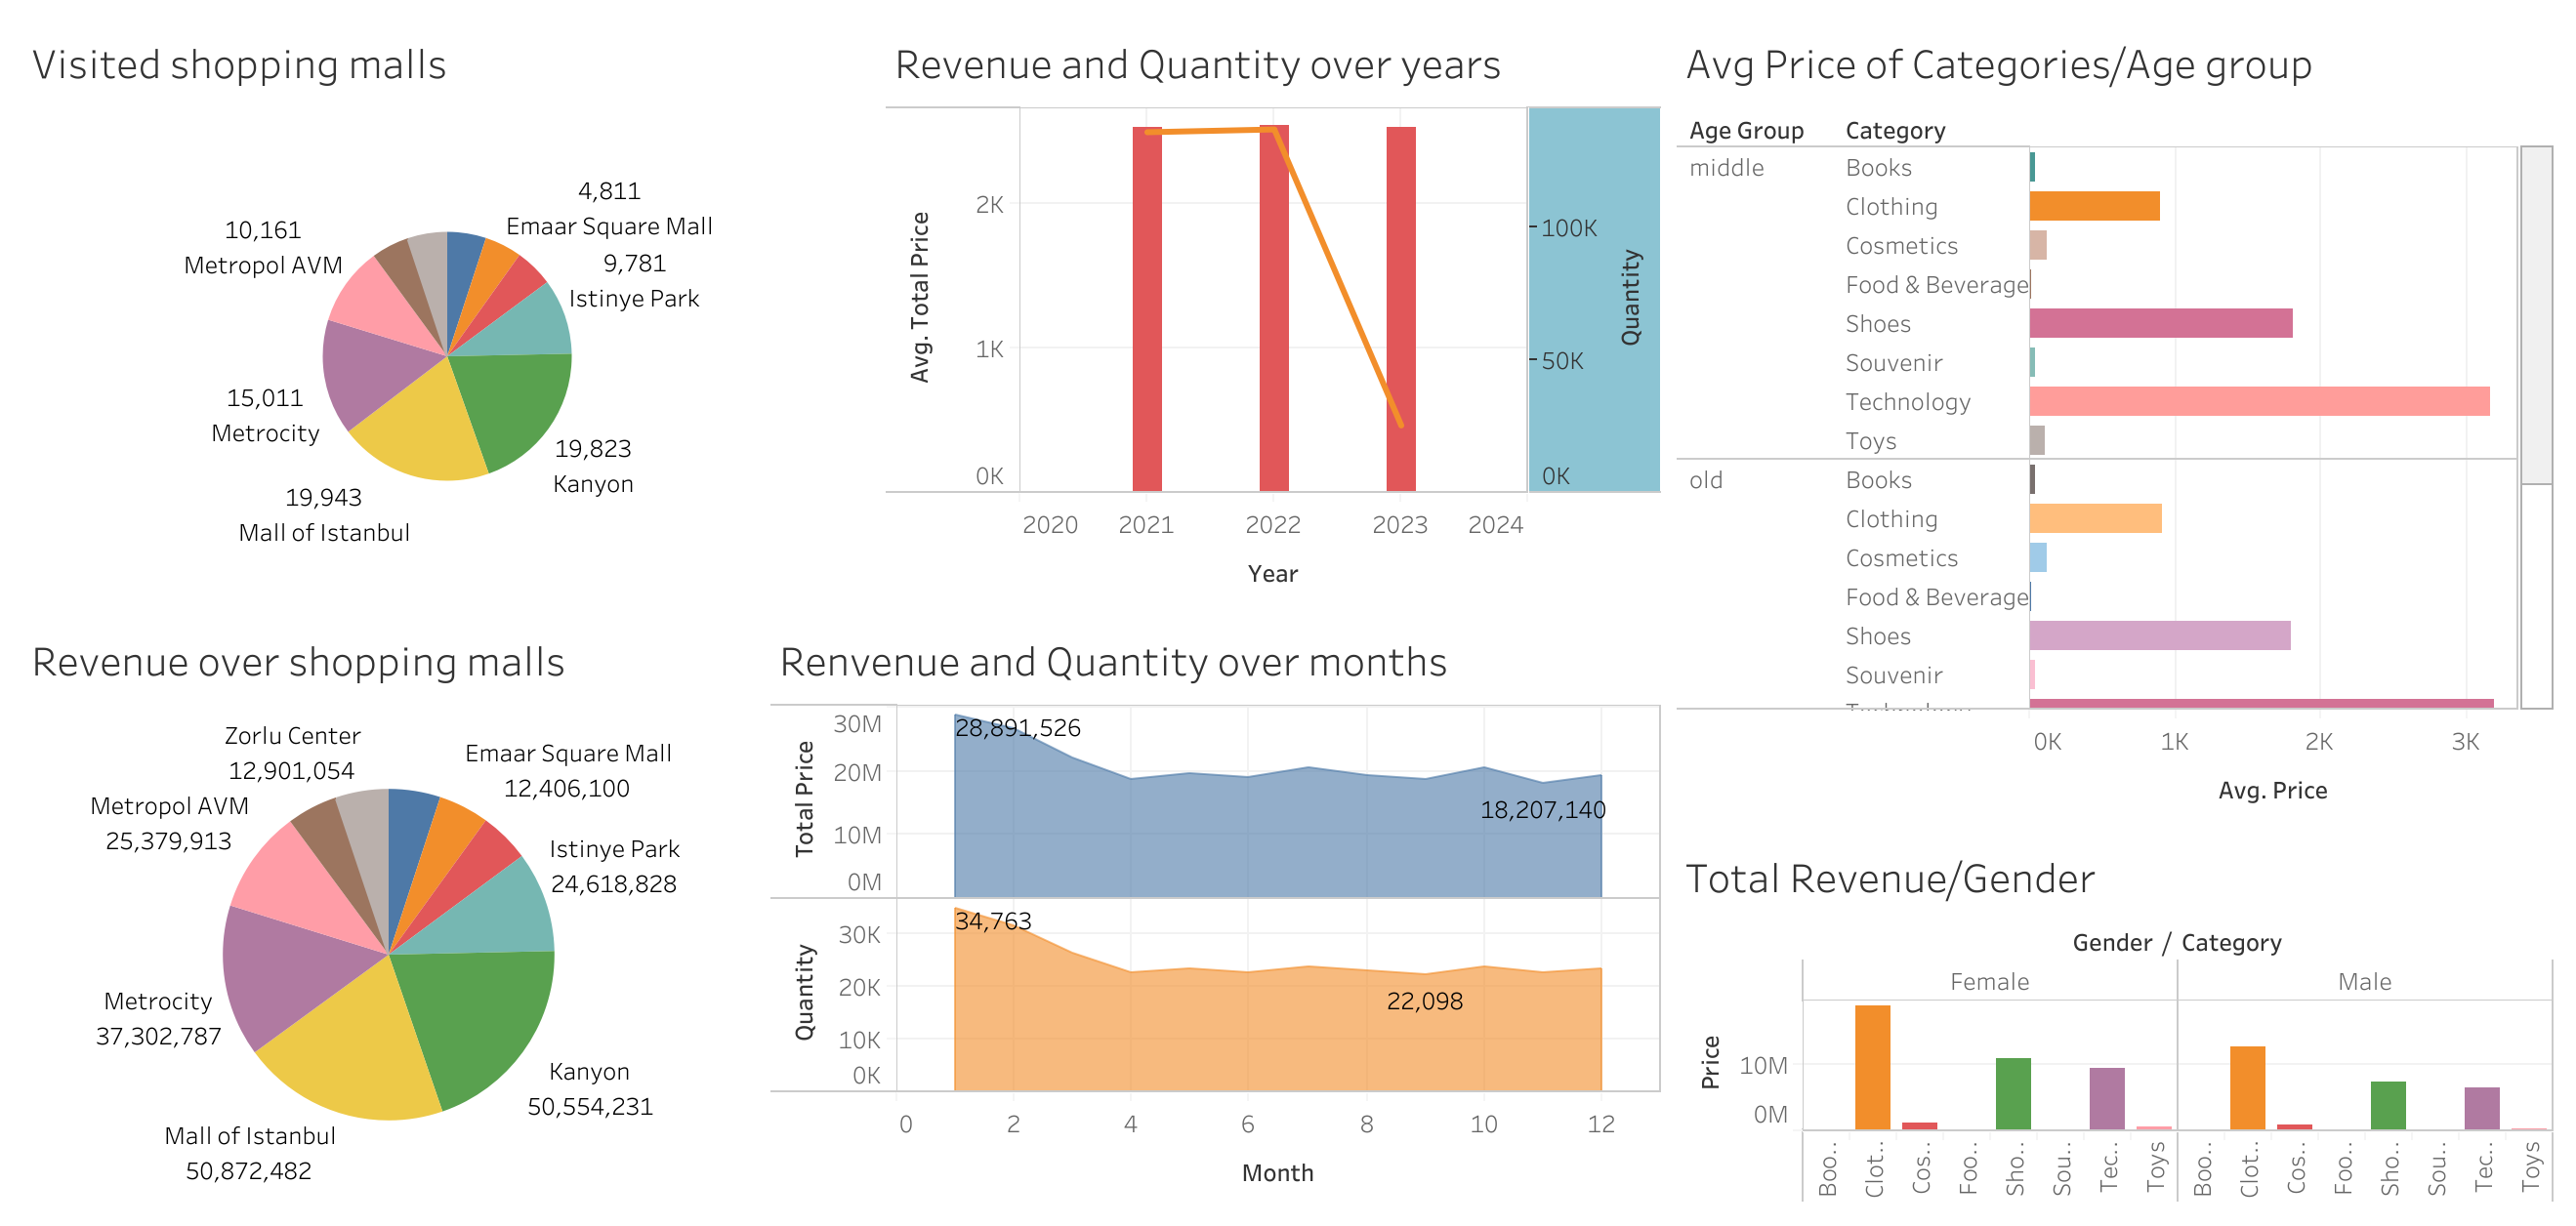

The page's visual inventory and layout, read from the dashboard file:
{"tool":"tableau","page":{"name":"Dashboard 1","canvas":[1000,1000],"units":"permille","ordinal":0},"visuals":[{"type":"worksheet","title":"Visited shopping malls","mark":"Pie","box":[6.3,10.6,337.3,507.3]},{"type":"worksheet","title":"Revenue and Quantity over years","mark":"Automatic","rows":["total_price","quantity"],"cols":["year"],"box":[343.6,10.6,309.7,507.3]},{"type":"worksheet","title":"Avg Price of Categories/Age group","mark":"Automatic","rows":["age_group","category"],"cols":["price"],"box":[653.3,10.6,340.4,507.3]},{"type":"worksheet","title":"Revenue over shopping malls","mark":"Pie","box":[6.3,517.9,292.6,471.5]},{"type":"worksheet","title":"Renvenue and Quantity over months","mark":"Area","rows":["total_price","quantity"],"cols":["month"],"box":[298.9,517.9,354.4,471.5]},{"type":"worksheet","title":"Total Revenue/Gender","mark":"Automatic","rows":["price"],"cols":["gender","category"],"box":[653.3,517.9,340.4,471.5]}]}

Visuals, with their boxes on the dashboard's canvas, which has no fixed pixel size, in thousandths of its width and height (x1, y1, x2, y2). These are canvas units, not pixel positions in the 2576x1226 screenshot, which may show the page scaled, cropped or inside an application window:
"Visited shopping malls" worksheet (Pie marks): 6 11 344 518
"Revenue and Quantity over years" worksheet: 344 11 653 518
"Avg Price of Categories/Age group" worksheet: 653 11 994 518
"Revenue over shopping malls" worksheet (Pie marks): 6 518 299 989
"Renvenue and Quantity over months" worksheet (Area marks): 299 518 653 989
"Total Revenue/Gender" worksheet: 653 518 994 989
